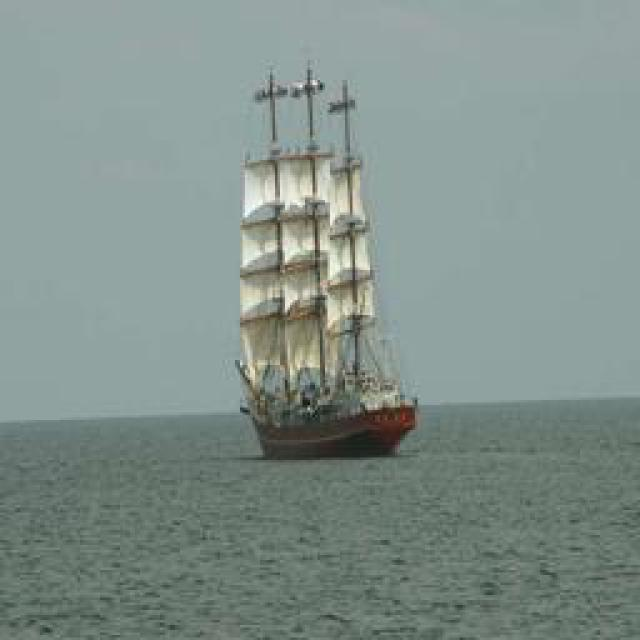Ship: (231, 51, 421, 464)
